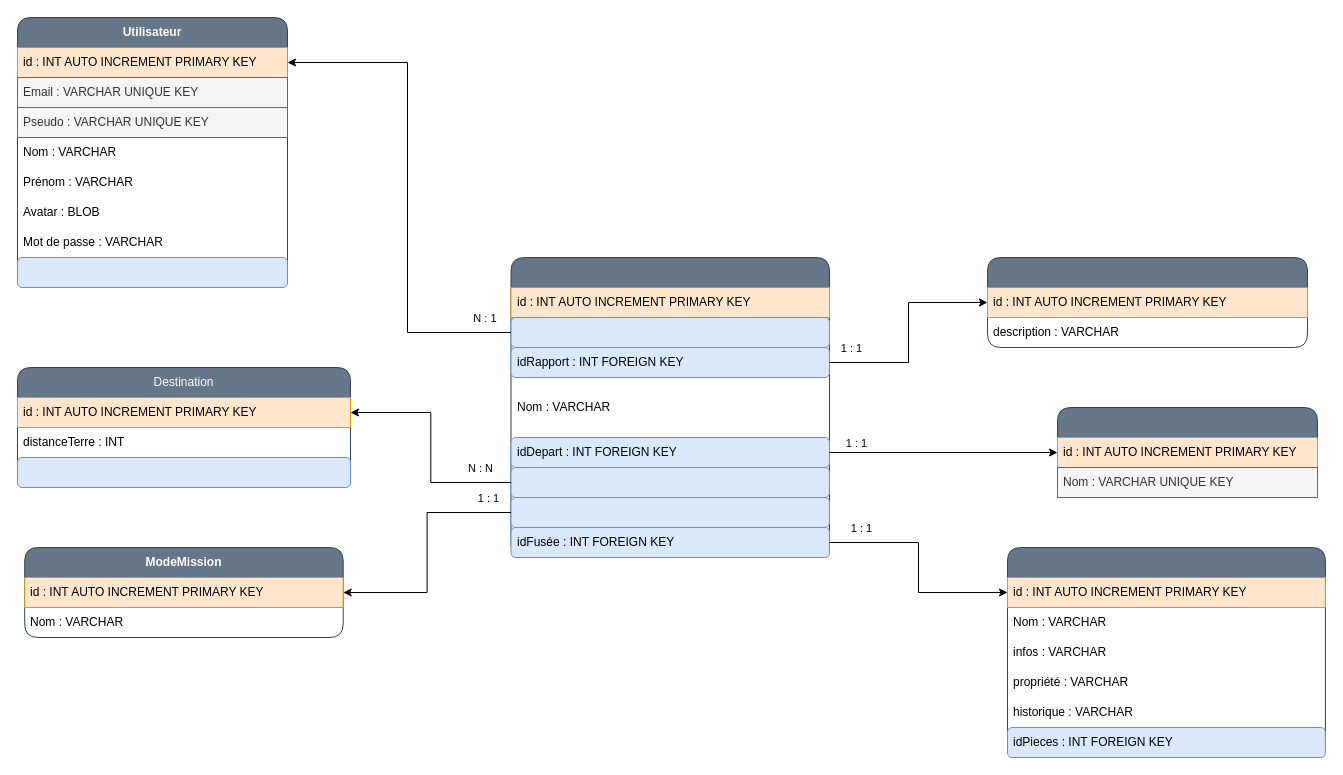
Some shapes in this 1343 by 775 pixel diagram are drawn without their labels. The box of each missing label's shape, as (x1, y1, x2, y2) in pixels:
Fusée: (1006, 546, 1325, 758)
idAstre : INT FOREIGN KEY: (16, 456, 350, 488)
idDestination : INT FOREIGN KEY: (510, 466, 830, 498)
idEntreprise : INT FOREIGN KEY: (16, 256, 288, 288)
idMode : INT FOREIGN KEY: (510, 496, 830, 528)
idUtilisateur : INT FOREIGN KEY: (510, 316, 830, 348)
Mission - Utilisateur: (510, 256, 830, 558)
Pays: (1056, 406, 1318, 498)
Rapport: (986, 256, 1308, 348)
